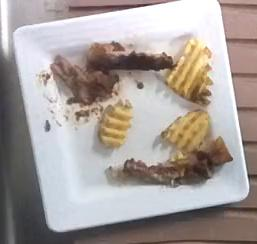fries: (165, 37, 211, 103), (161, 112, 209, 152), (99, 100, 133, 147)
